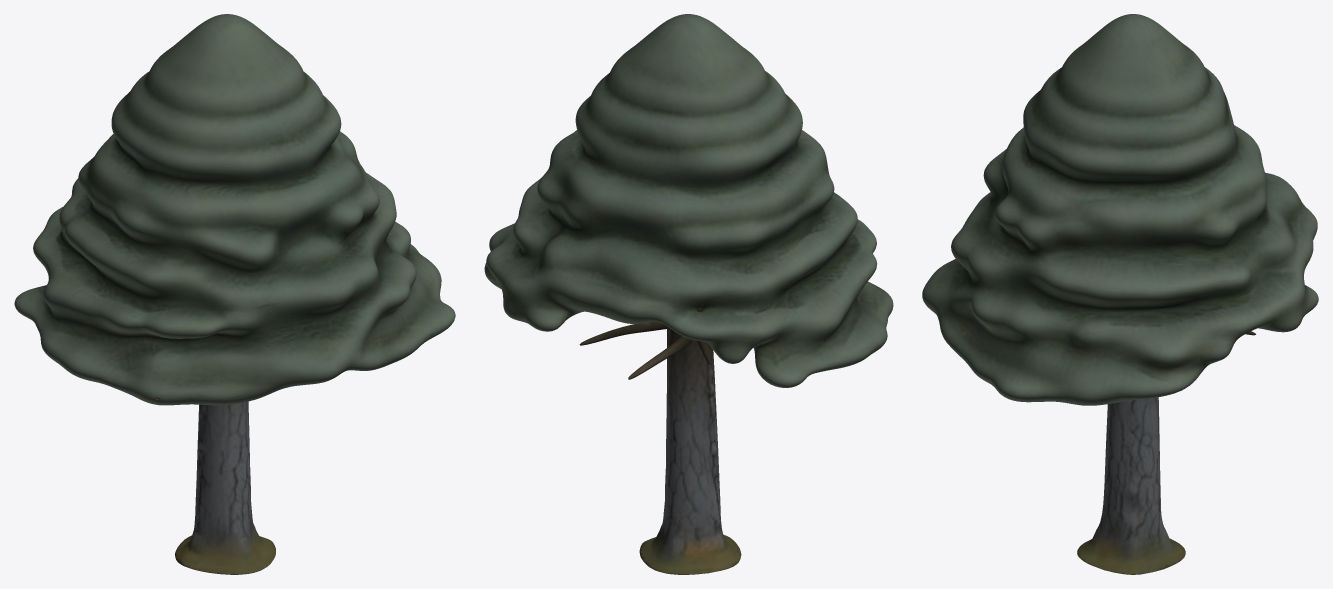
The model's file is prop_pine.glb.
The picture shows the model from 3 angles, left to right: view 1: azimuth 30°, elevation 25°; view 2: azimuth 150°, elevation 25°; view 3: azimuth 270°, elevation 25°; orthographic projection.
Visible parts, largest first — view 1: node_0; view 2: node_0; view 3: node_0.
Boxes of the visible parts, x1,y1,x2,y2 form: node_0: (14,14,455,574); node_0: (484,14,893,574); node_0: (922,14,1318,574).
Size of the model in its own units: 0.85 by 1.17 by 0.7851.
Materials: 1 (1 with a texture image).
